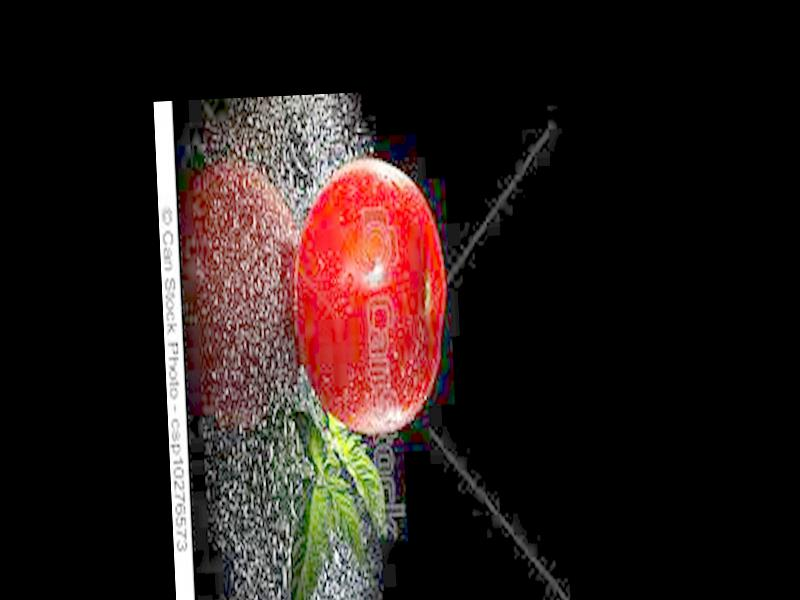Tomato: (288, 156, 452, 436)
